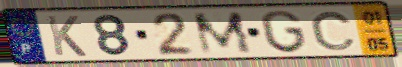2: (151, 12, 197, 57)
8: (92, 13, 134, 58)
C: (308, 10, 359, 52)
G: (258, 9, 309, 55)
K: (44, 14, 90, 58)
M: (190, 10, 256, 57)
